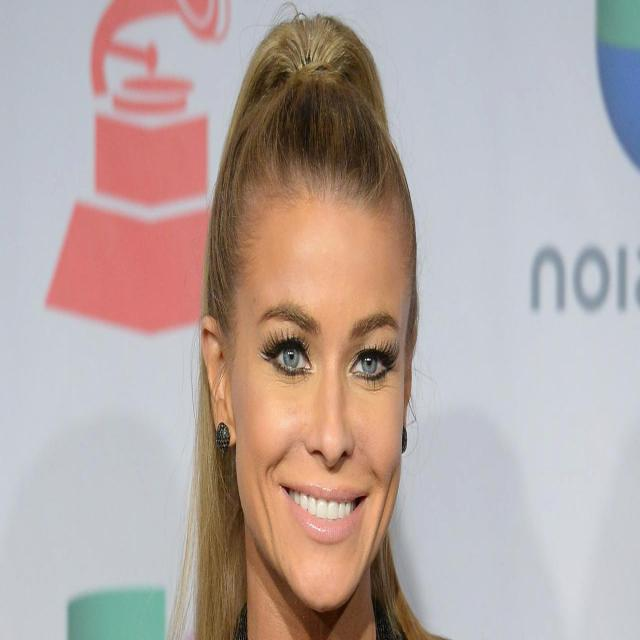no-earmuff: (194, 302, 244, 468), (404, 309, 422, 455)
